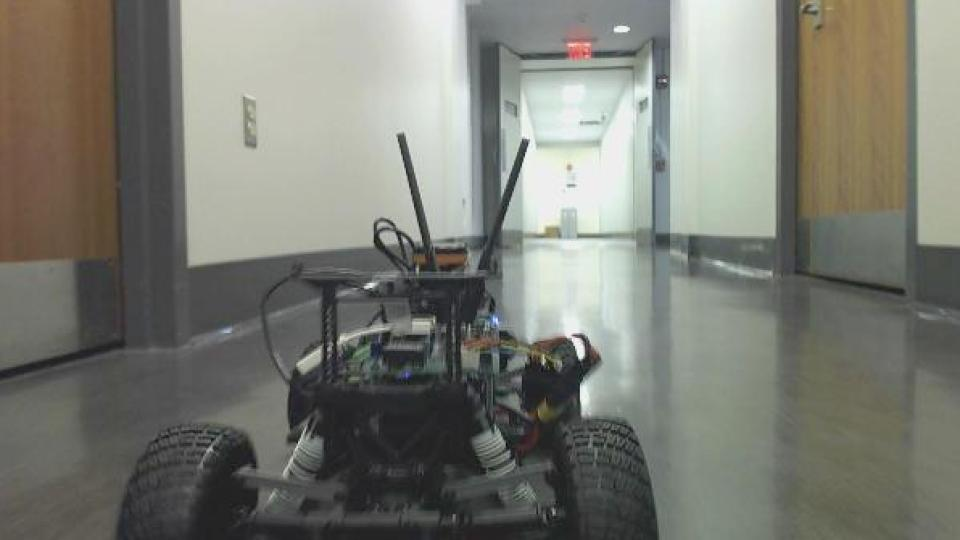car: (111, 129, 664, 540)
